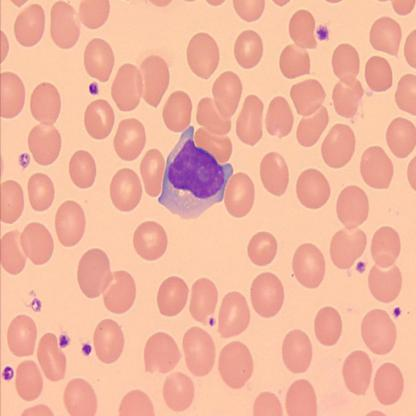Atypical lymphocyte: (156, 125, 233, 218)
